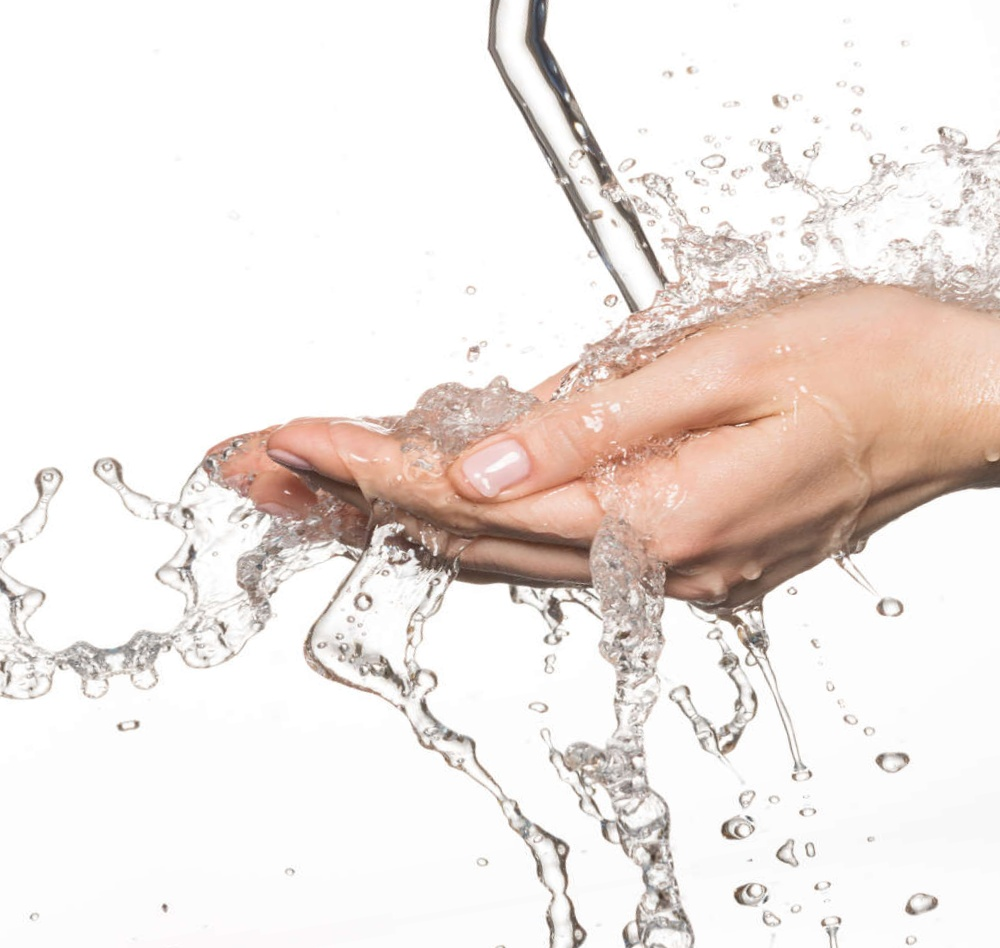washing hand: (62, 0, 999, 885)
